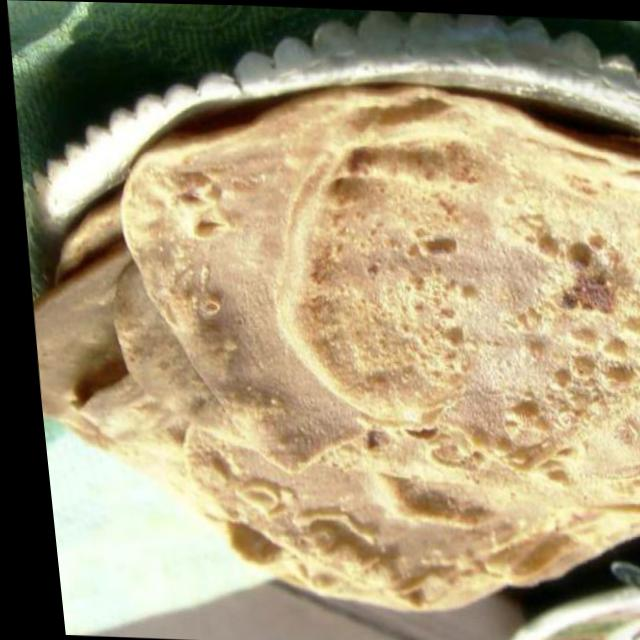CHAPATHI: (33, 82, 640, 612)
